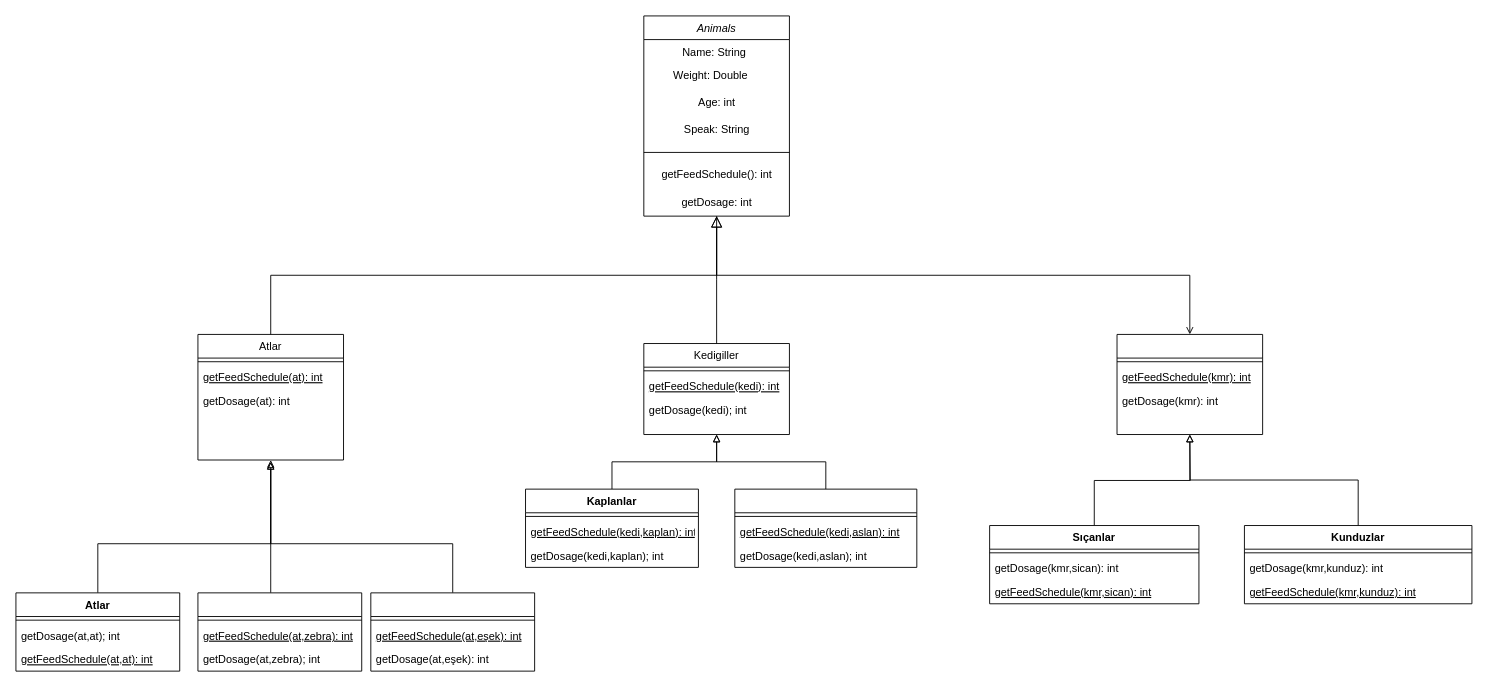
Image size: 1488x690. Some labels were removed from this diagram. The shapes that lost their labels are listed below. From the top down, each one's box as (x1, y1, x2, y2) in pixels, then its label:
(1116, 334, 1263, 435): Kemirgenler
(734, 488, 917, 567): Aslanlar
(197, 592, 362, 671): Zebralar
(370, 592, 535, 671): Eşekler
